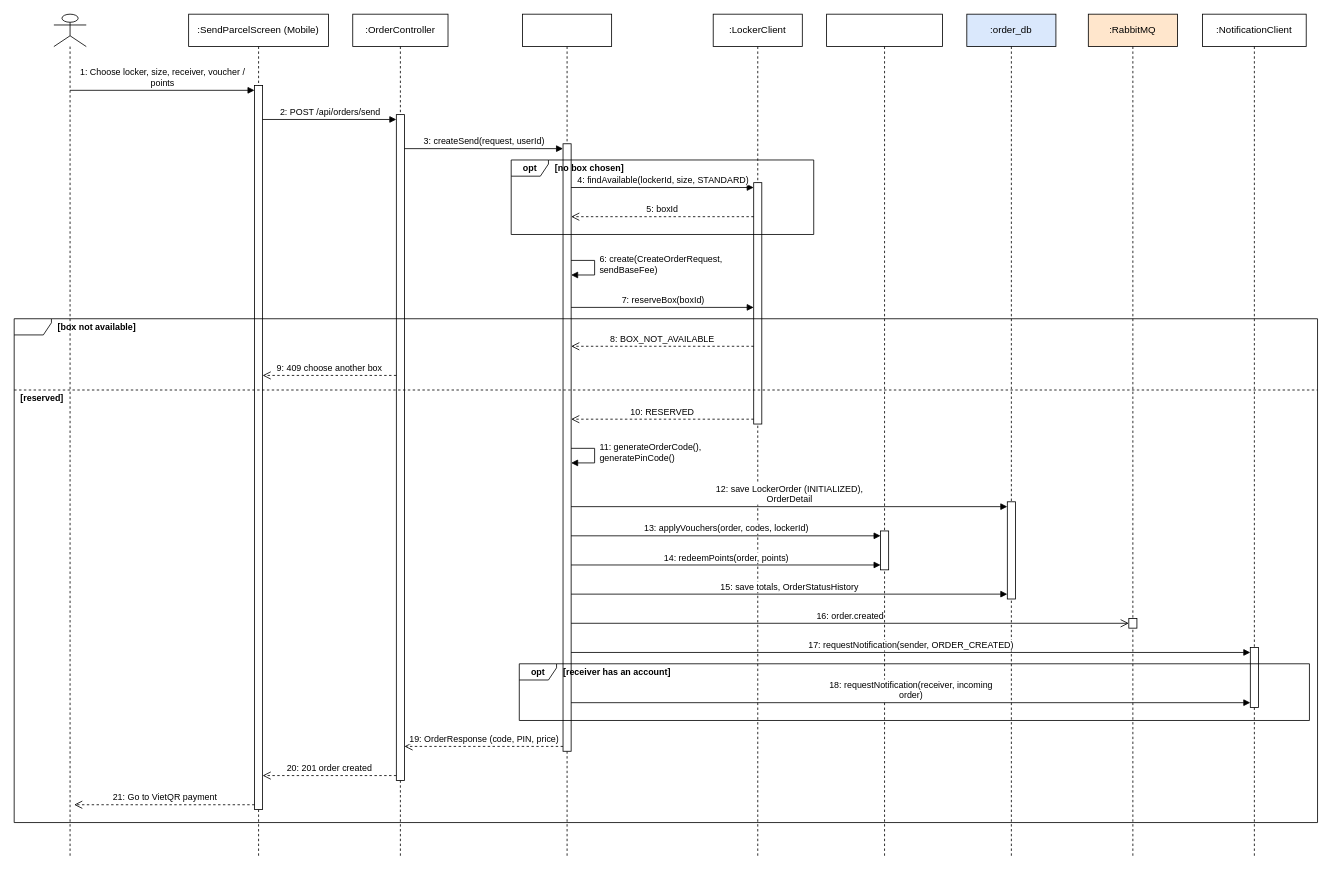
Image size: 1333x871. Some labels were removed from this diagram. Here are the shapes that lost their labels. From the top down, the box of each, then its label:
(53, 13, 86, 857): Customer
(522, 13, 612, 857): :OrderService
(826, 13, 943, 857): :OrderBenefitService
(13, 318, 1318, 823): alt
